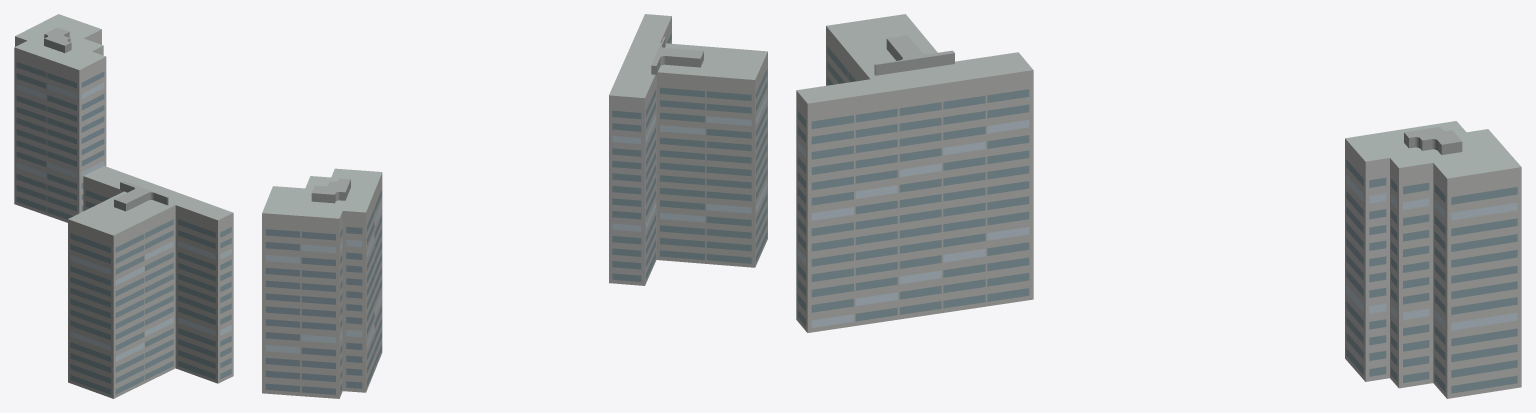
File: apt-a10024501.glb
3 views of the same model, side by side, from view 1: azimuth 30°, elevation 25°; view 2: azimuth 150°, elevation 25°; view 3: azimuth 270°, elevation 25° (orthographic). The views are drawn at different scales.
Visible parts, largest first — view 1: apt-a10024501; view 2: apt-a10024501; view 3: apt-a10024501.
Part boxes in pixels (x1,y1,x2,y2): apt-a10024501: (14, 14, 233, 398); apt-a10024501: (262, 14, 767, 398); apt-a10024501: (796, 14, 1521, 398).
Size of the model in its own units: 69.39 by 50 by 137.
